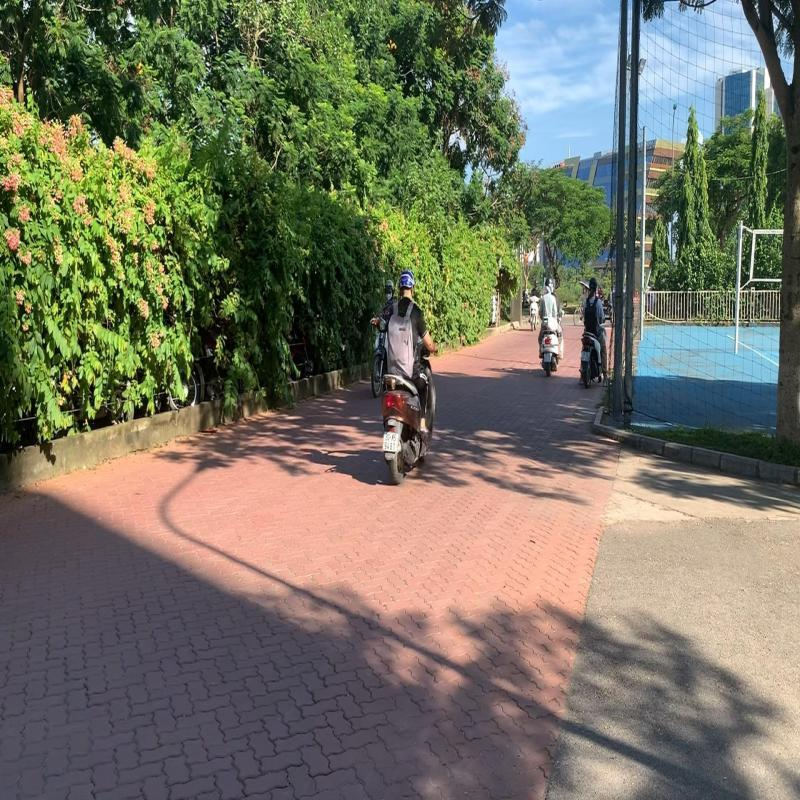helmet: (398, 270, 417, 294)
licenseplate: (382, 430, 399, 454)
motorcyclist: (379, 268, 443, 484)
